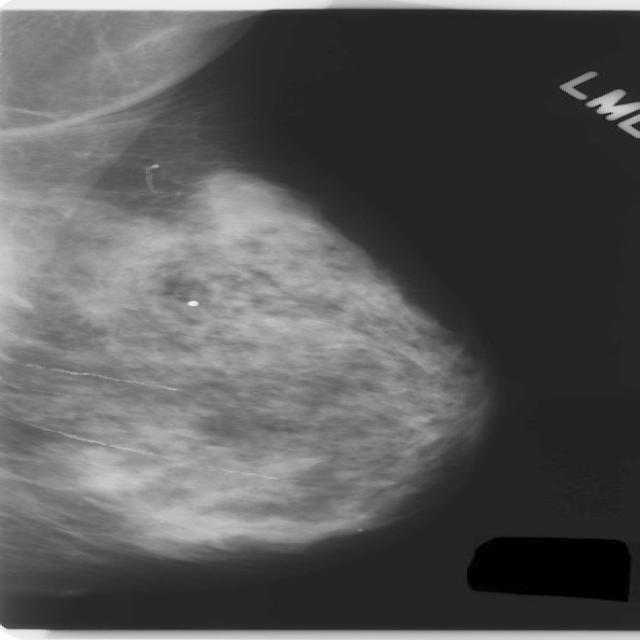tumour: (68, 284, 140, 326)
